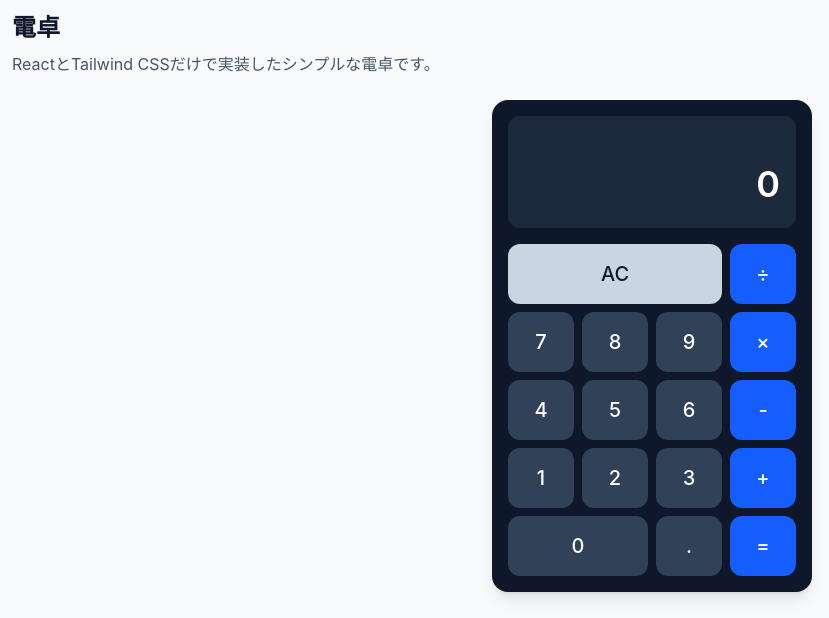
Test: Calculator ページ › ゼロ除算で Error が表示され、その後の入力で新しい計算を開始できる
Click the button "5" at (615, 410), box [582,380,648,440]
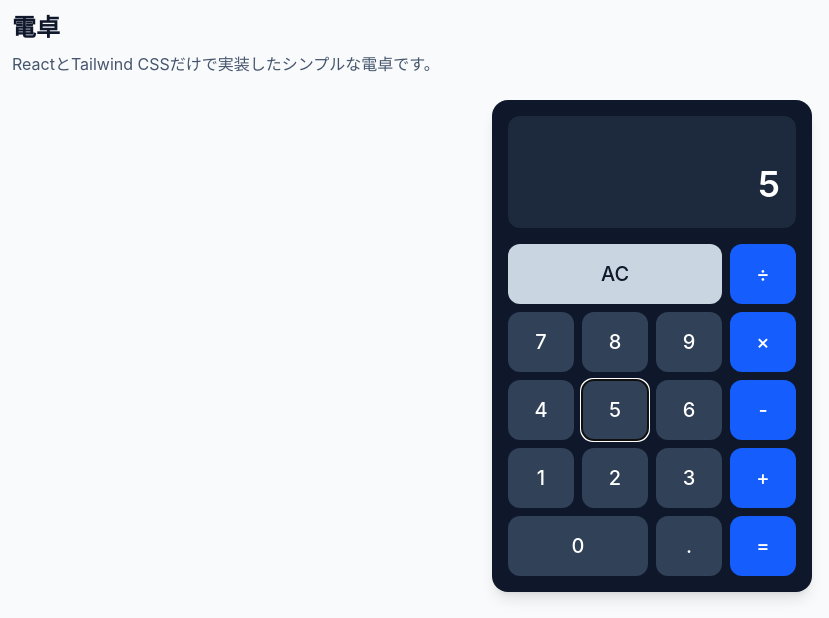
Click the button "÷" at (763, 274), box [730,244,796,304]
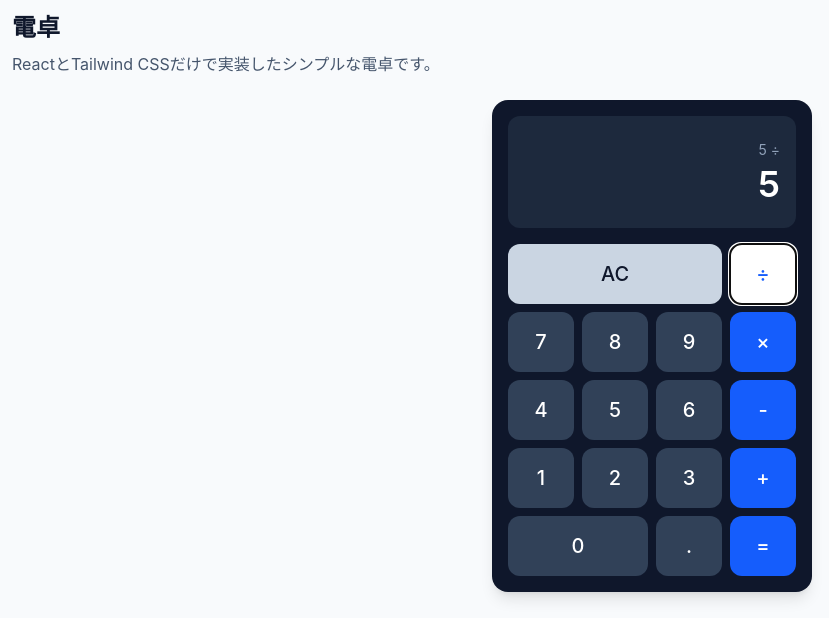
Click the button "0" at (578, 546), box [508,516,648,576]
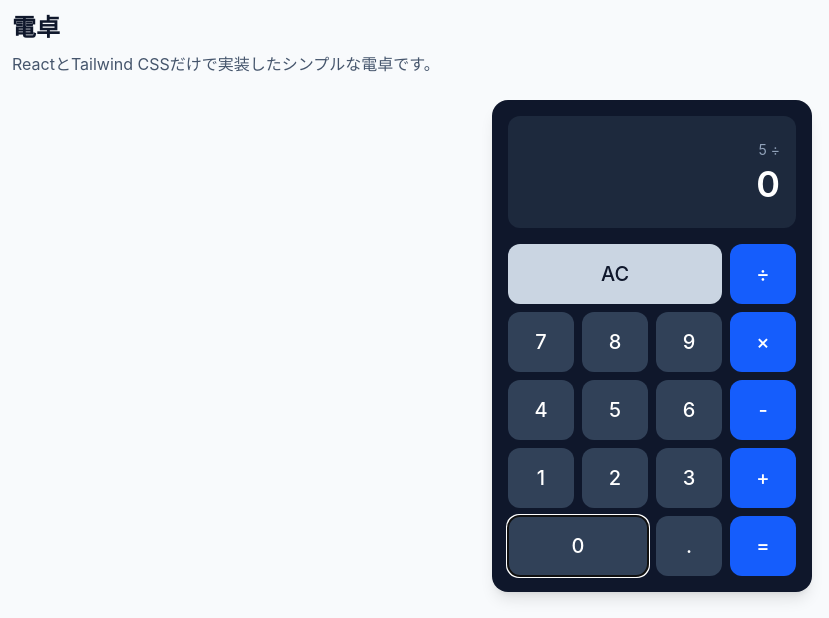
Click the button "=" at (763, 546), box [730,516,796,576]
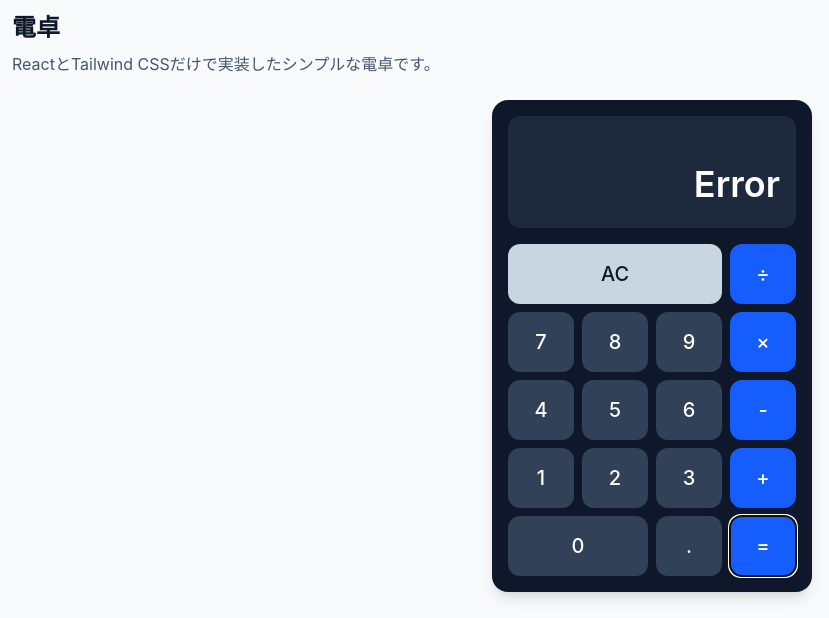
Now the text with test id "calculator-display" reads "Error", box [694,162,780,206]
Click the button "7" at (541, 342), box [508,312,574,372]
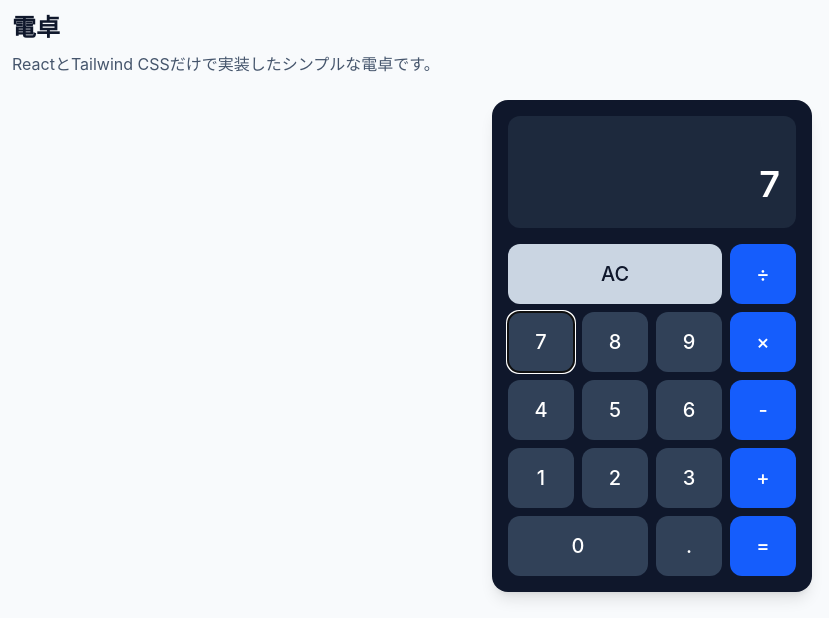
Now the text with test id "calculator-display" reads "7", box [759,162,780,206]
